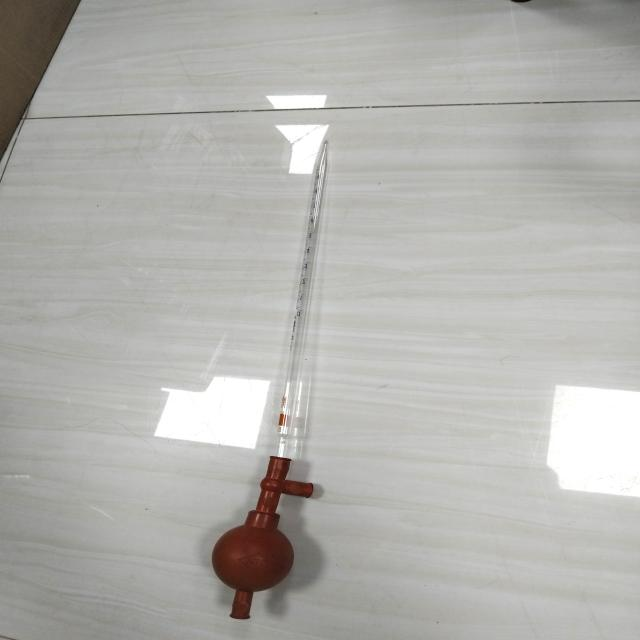Volumetric_Pipet: (198, 123, 349, 626)
